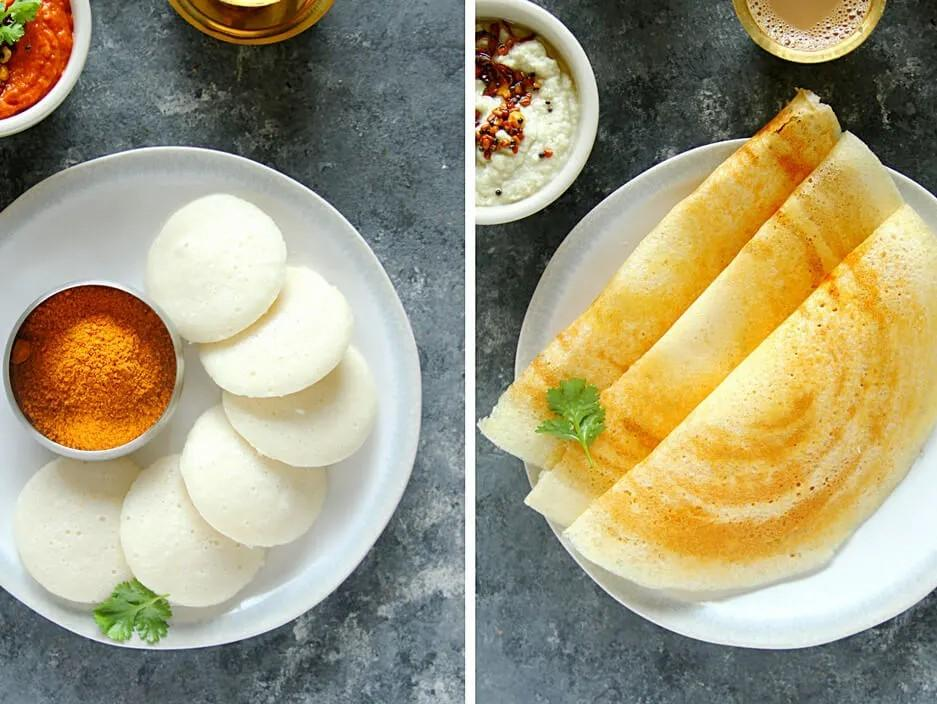Chai: (741, 2, 876, 53)
CoconutChutney: (476, 16, 579, 207)
Dosa: (559, 204, 937, 633), (524, 128, 905, 528), (476, 88, 840, 471)
Idli: (119, 455, 264, 606), (145, 194, 286, 344), (182, 406, 328, 545), (200, 267, 353, 398), (222, 342, 374, 467), (15, 457, 145, 602)
